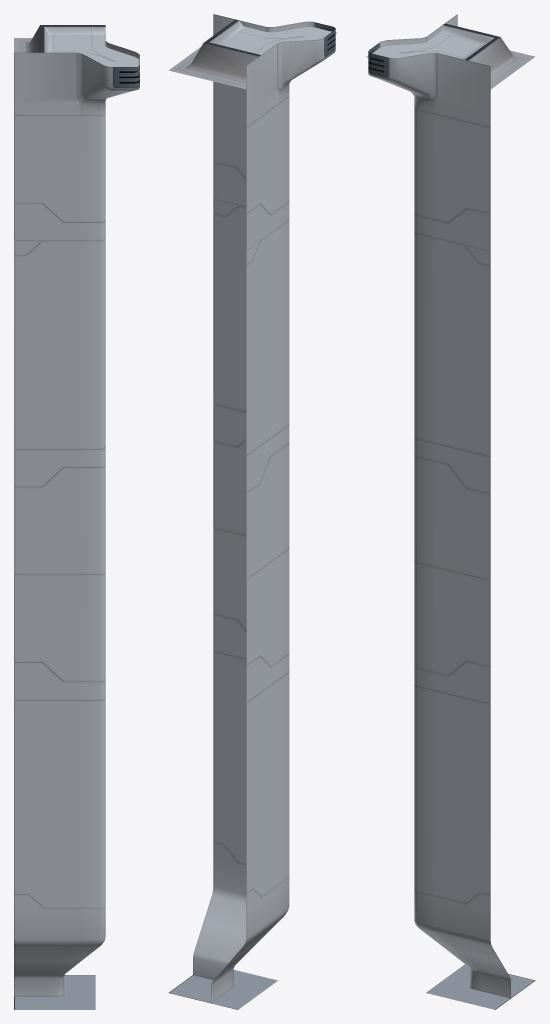
Rendered from Room_A_corner_inner_tall.fbx.
The picture shows the model from 3 angles, left to right: view 1: azimuth 90°, elevation 25°; view 2: azimuth 150°, elevation 25°; view 3: azimuth 330°, elevation 25°; orthographic projection.
Visible parts, largest first — view 1: Room_A_corner_inner_tall; view 2: Room_A_corner_inner_tall; view 3: Room_A_corner_inner_tall.
Boxes of the visible parts, box(x1,y1,x2,y2) form: Room_A_corner_inner_tall: box(14, 25, 139, 1009); Room_A_corner_inner_tall: box(169, 14, 336, 1009); Room_A_corner_inner_tall: box(366, 14, 535, 1009).
Bounding box in the file's own units: 90.84 × 766 × 90.84.
3 materials, 3 textured.
